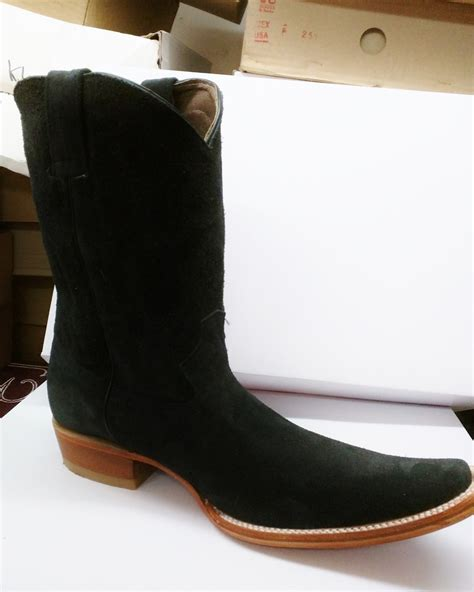gamuza: (14, 72, 474, 531)
